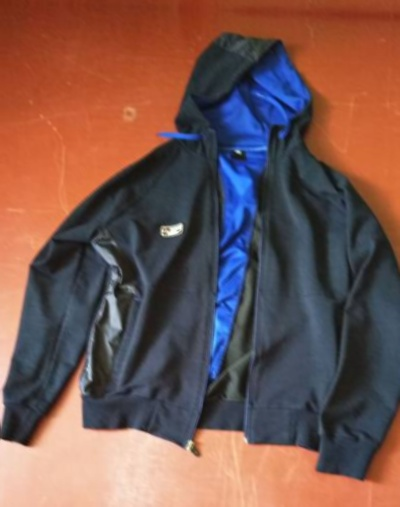Hoodie: (0, 7, 400, 477), (16, 0, 400, 13)
